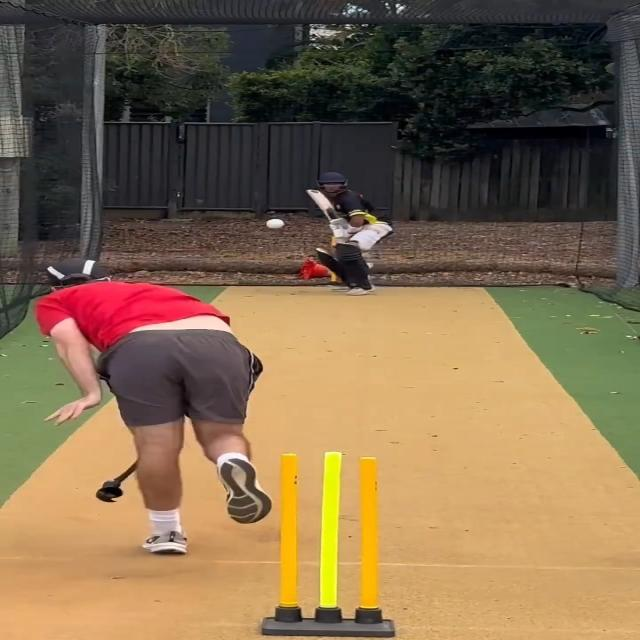ball: (264, 217, 286, 230)
stump: (262, 452, 398, 640)
